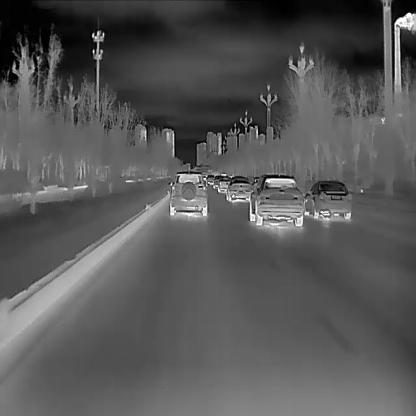car: (247, 171, 304, 226), (303, 178, 352, 219), (166, 169, 208, 215), (224, 174, 250, 201), (217, 174, 230, 192), (250, 175, 259, 191), (211, 174, 222, 187), (206, 172, 214, 184)
